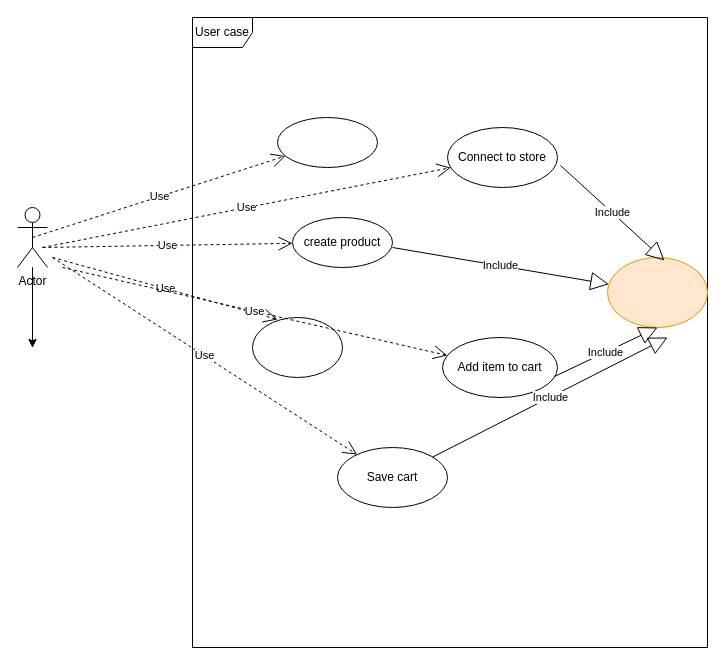
This 725x665 diagram has some shape labels left out. Each missing label, with the box of its shape:
authentication: (606, 256, 708, 328)
create store: (252, 316, 342, 378)
purhase: (276, 116, 378, 168)
